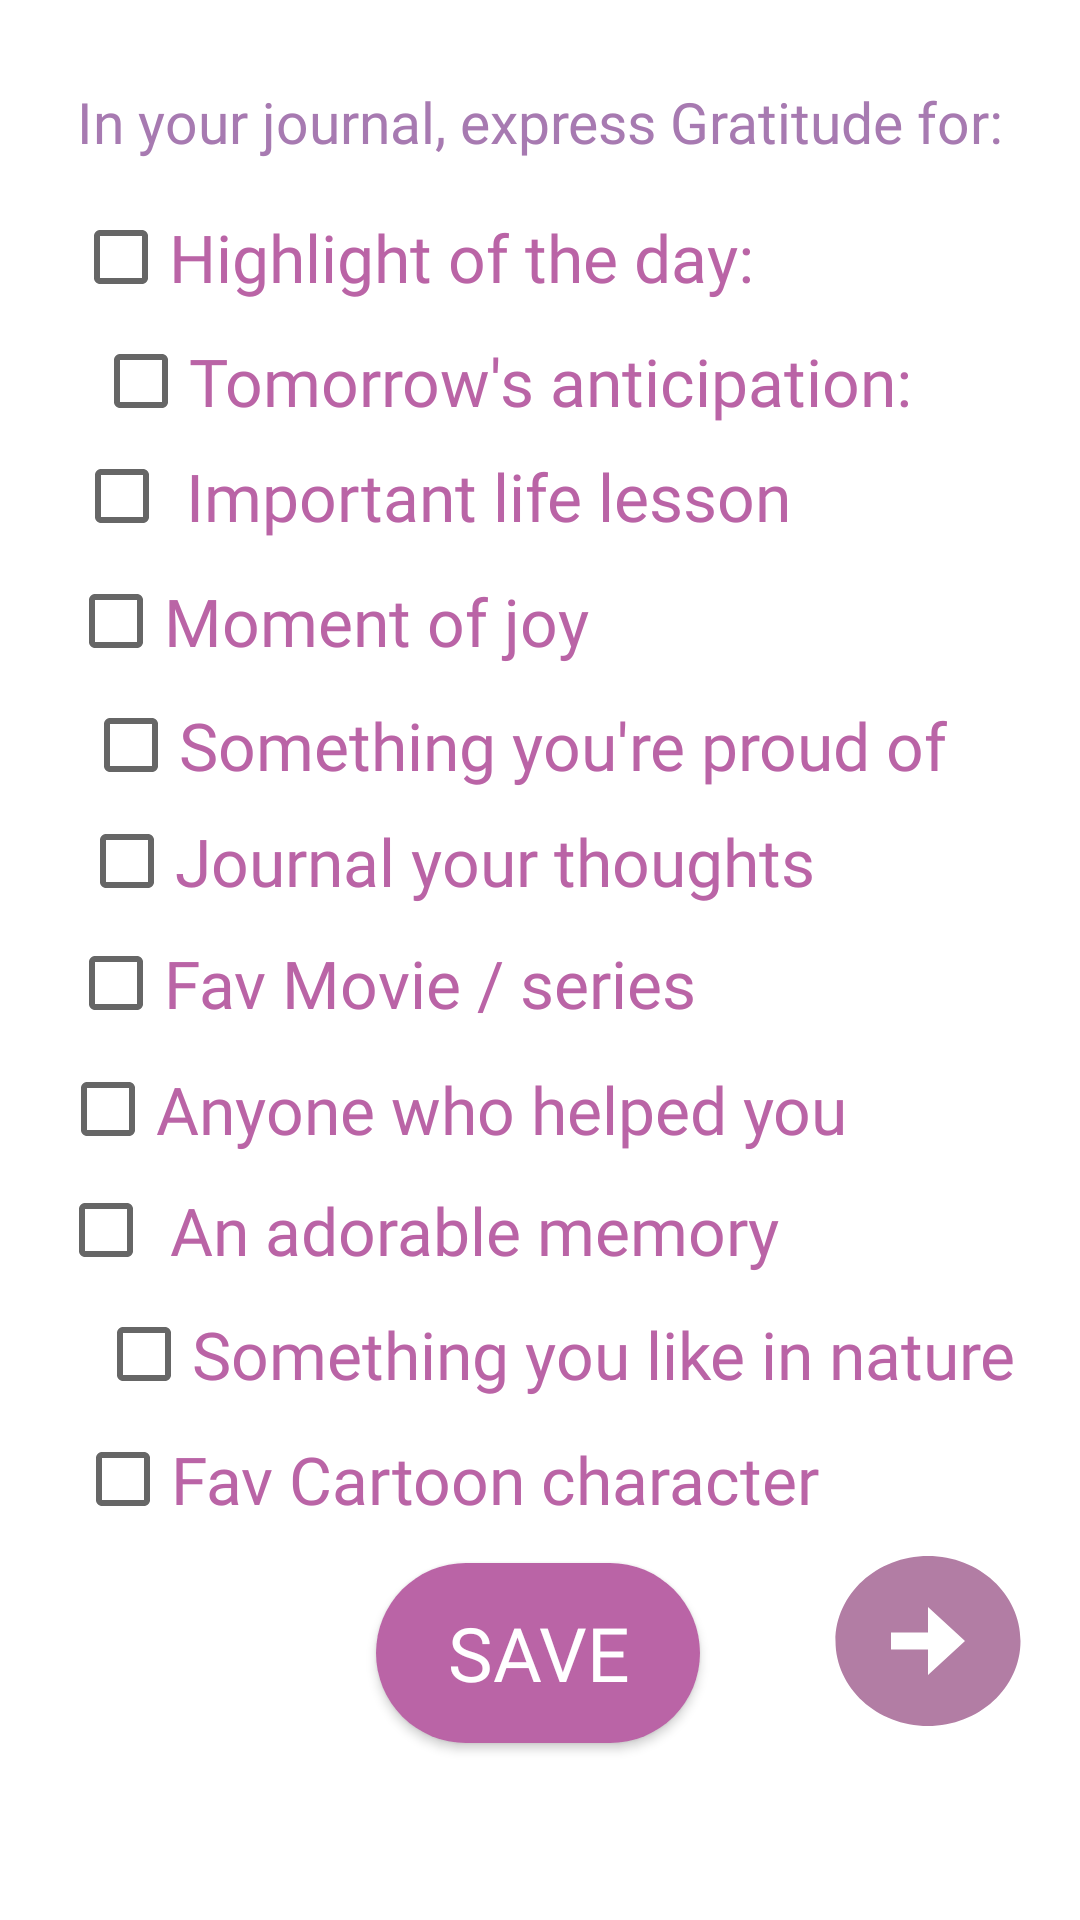

Where icons sit on this 1080w x 1920h app screen, as (x1, y1, x2, y2):
arrow circle right: (835, 1556, 1021, 1726)
